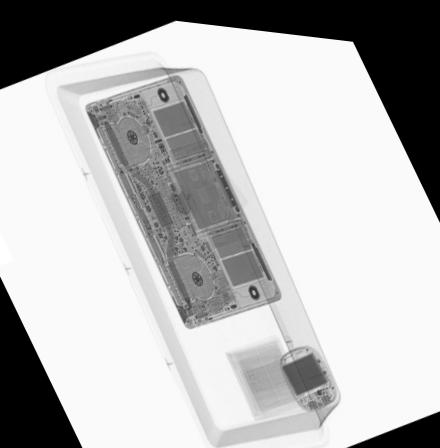Powerbank: (279, 343, 330, 389)
